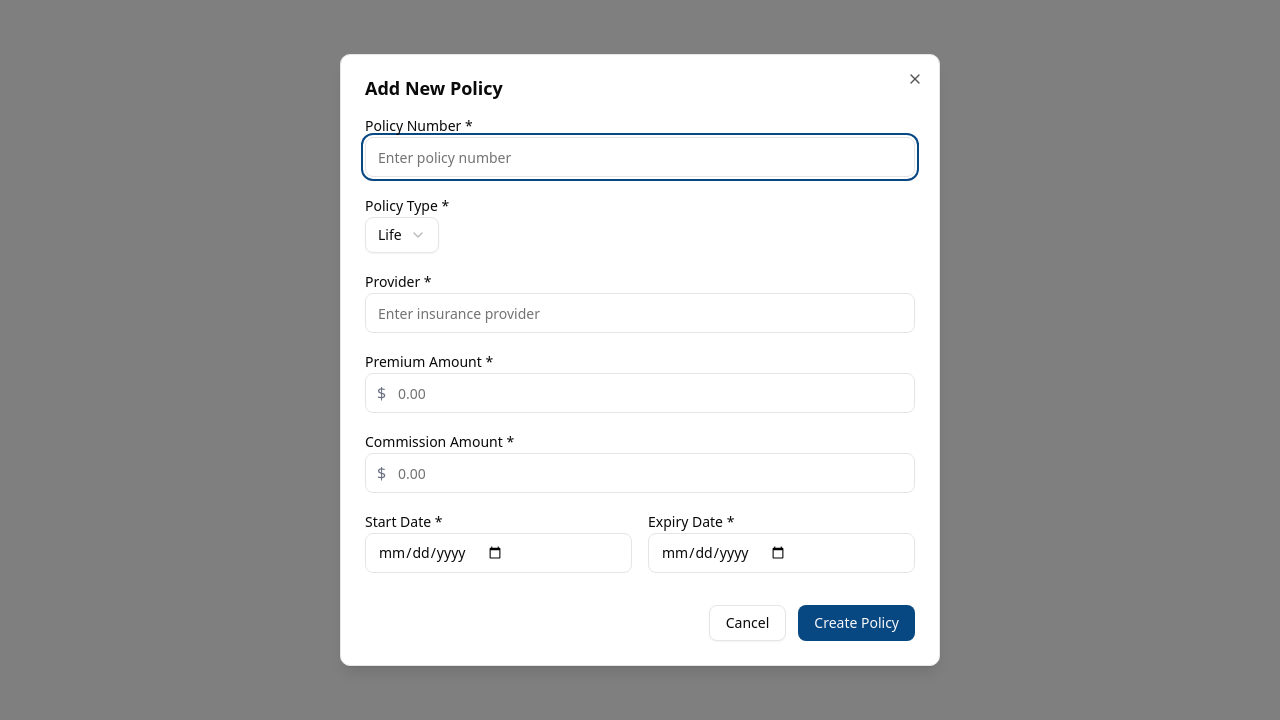
Scenario: Policy Management Loading States › PolicyModal Loading States › re-enables form after submission fails
// Fill out form
In the field labelled "Policy Number *": coordinates (640, 157) [365,137,915,177], type "POL-123"
In the field labelled "Provider *": coordinates (640, 313) [365,293,915,333], type "Test Insurance"
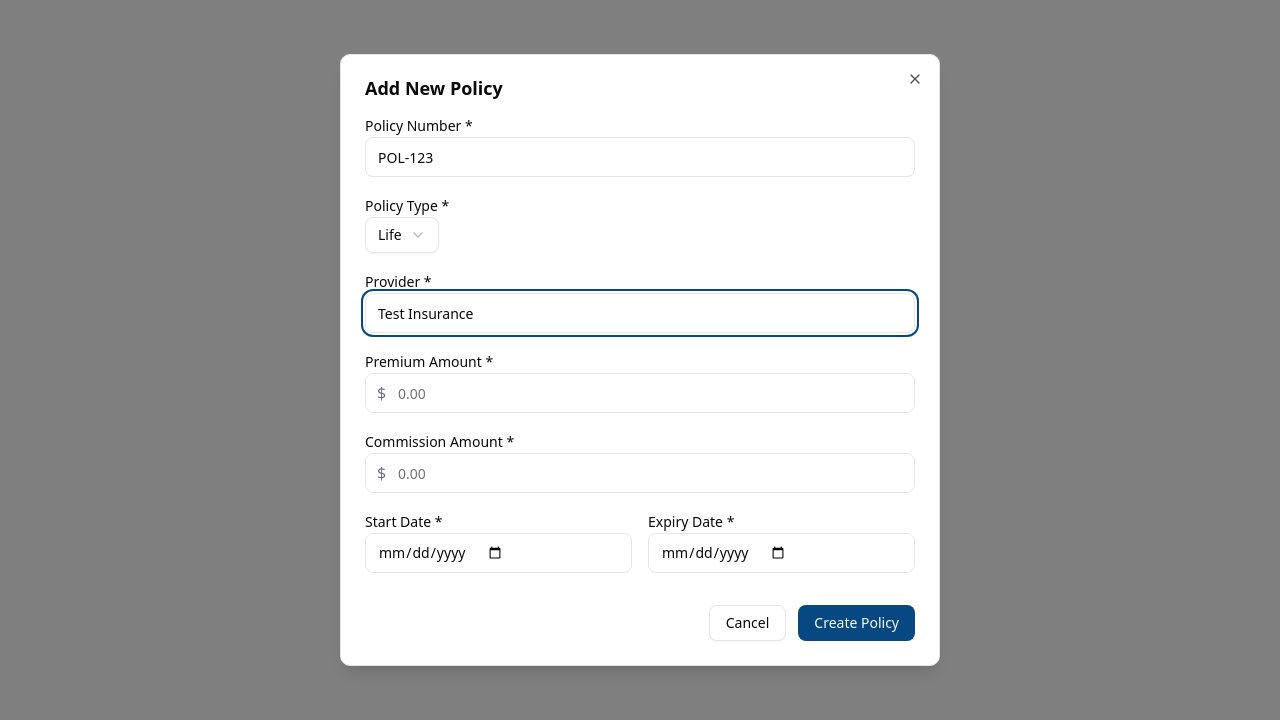
In the field labelled "Premium Amount *": coordinates (640, 393) [365,373,915,413], type "1000"
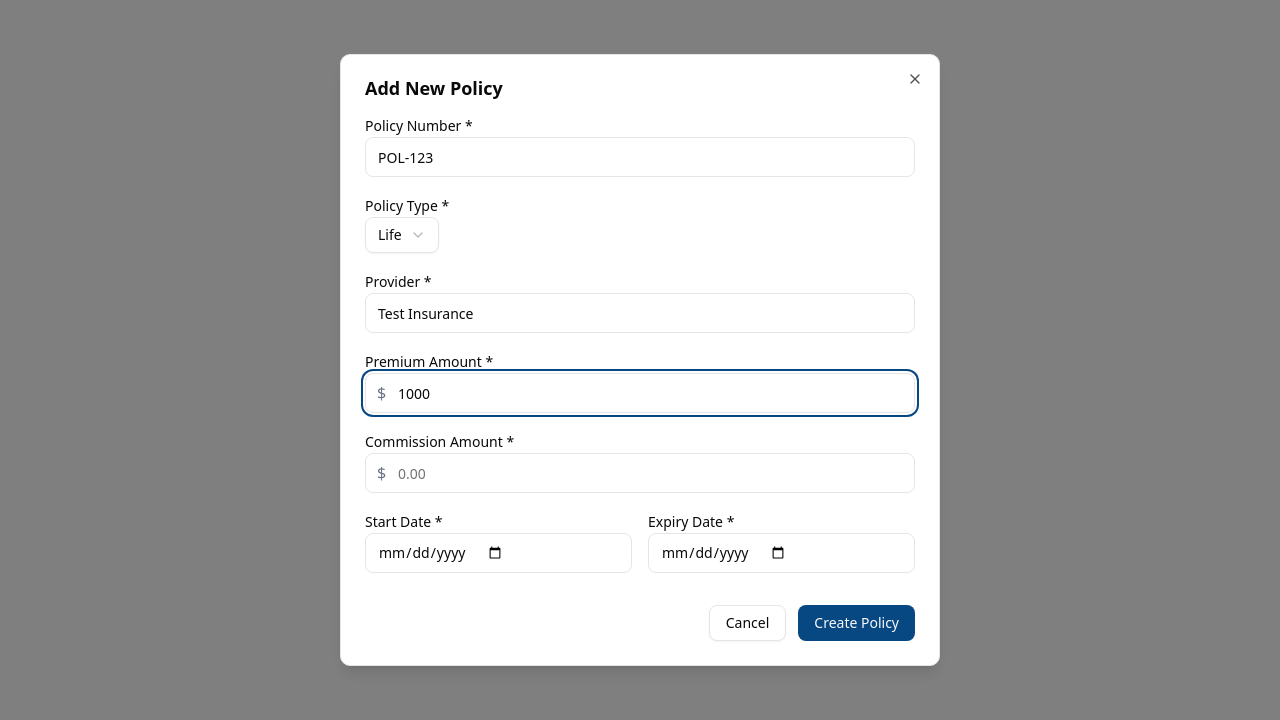
In the field labelled "Commission Amount *": coordinates (640, 473) [365,453,915,493], type "100"
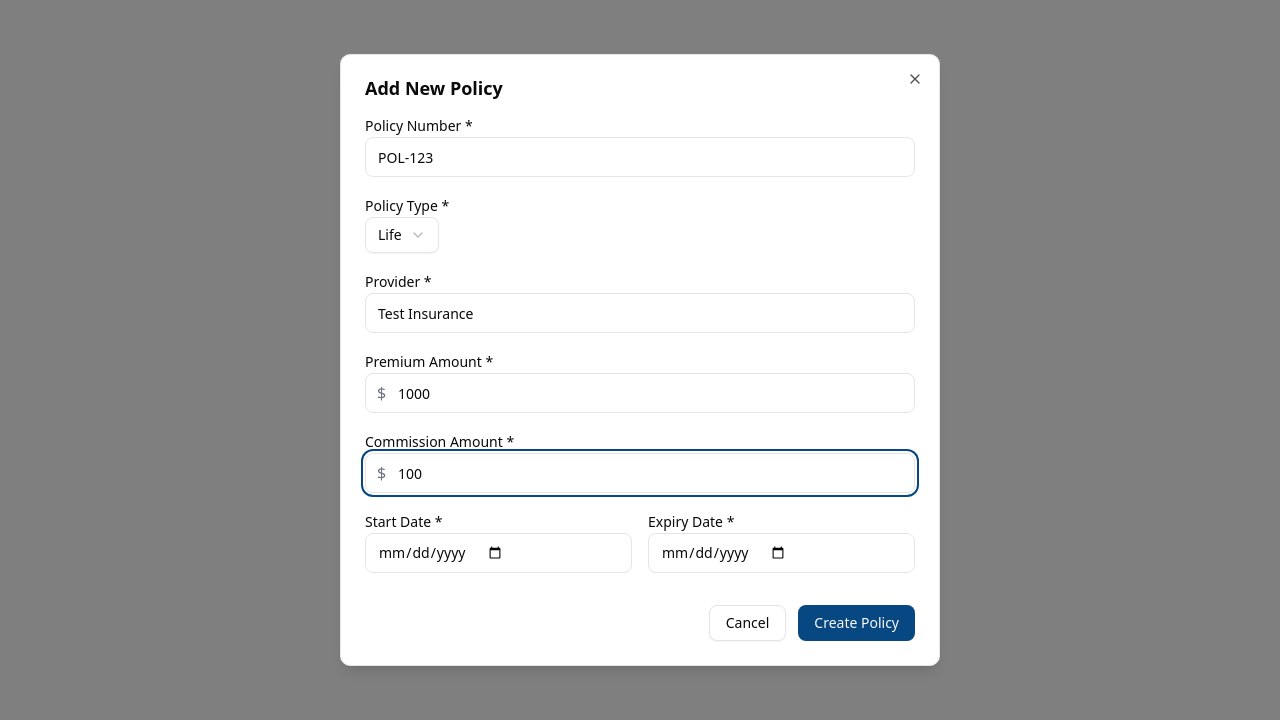
In the date field labelled "Start Date *": coordinates (498, 553) [365,533,632,573], type "2024-01-01"
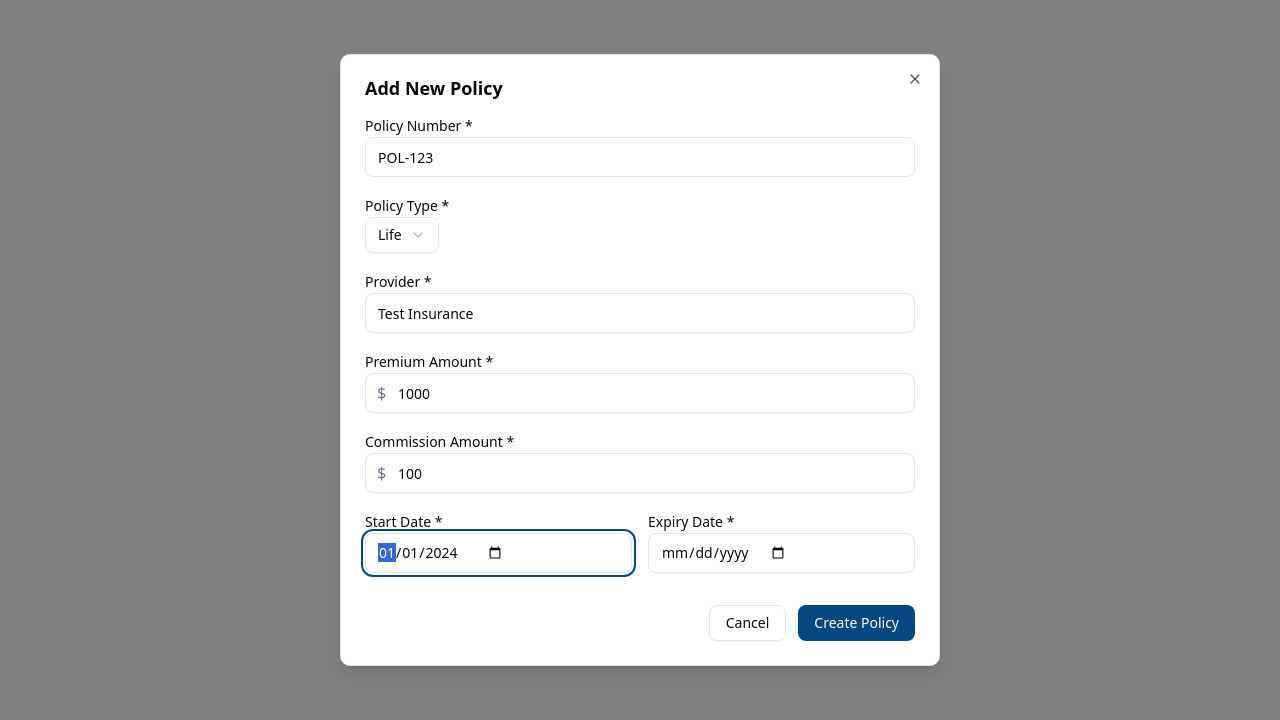
In the date field labelled "Expiry Date *": coordinates (782, 553) [648,533,915,573], type "2025-01-01"
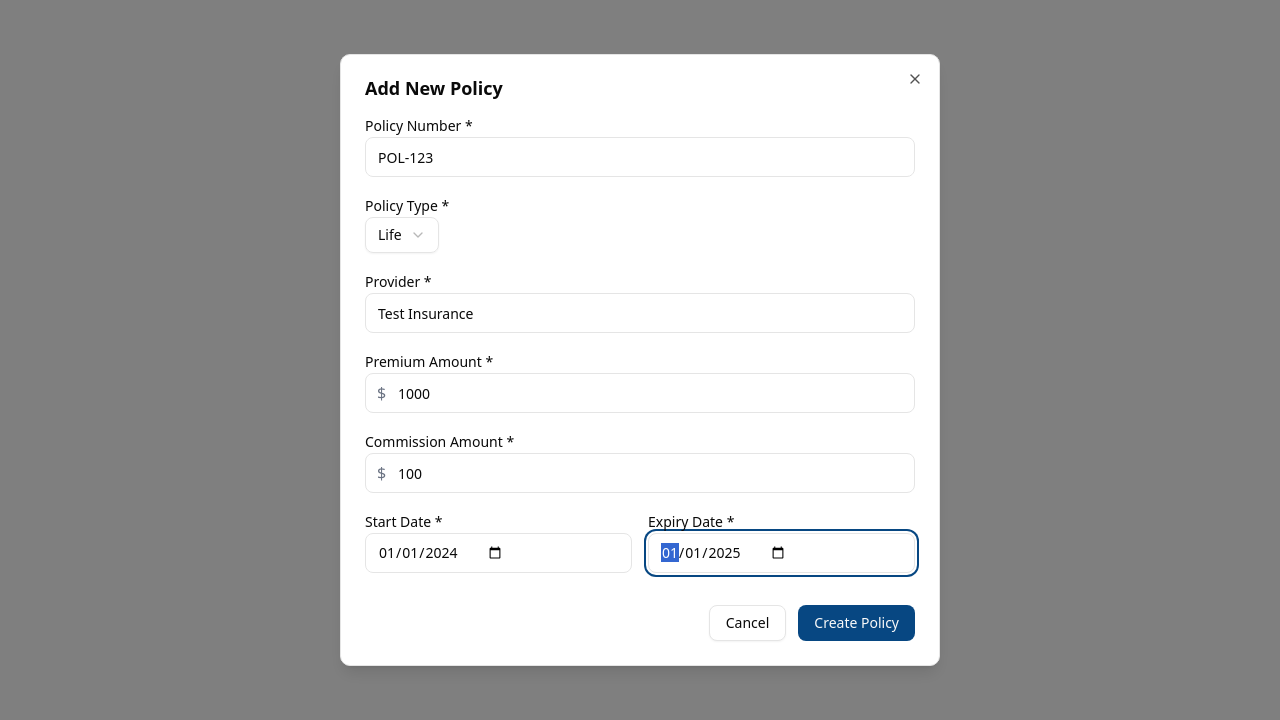
Click the button "Create Policy": coordinates (857, 623) [798,605,915,641]
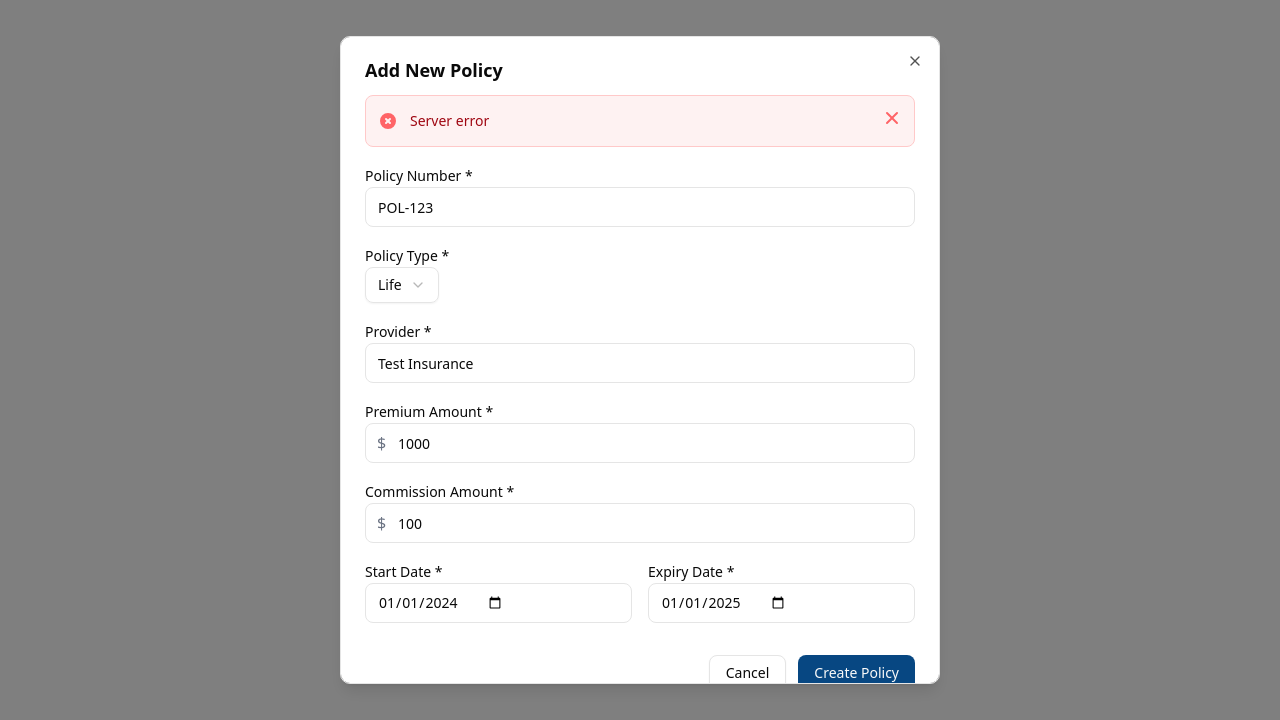
Expected: the button "Create Policy" is enabled, [798,655,915,684]
Expected: the text "Server error" is shown, [410,111,489,131]
